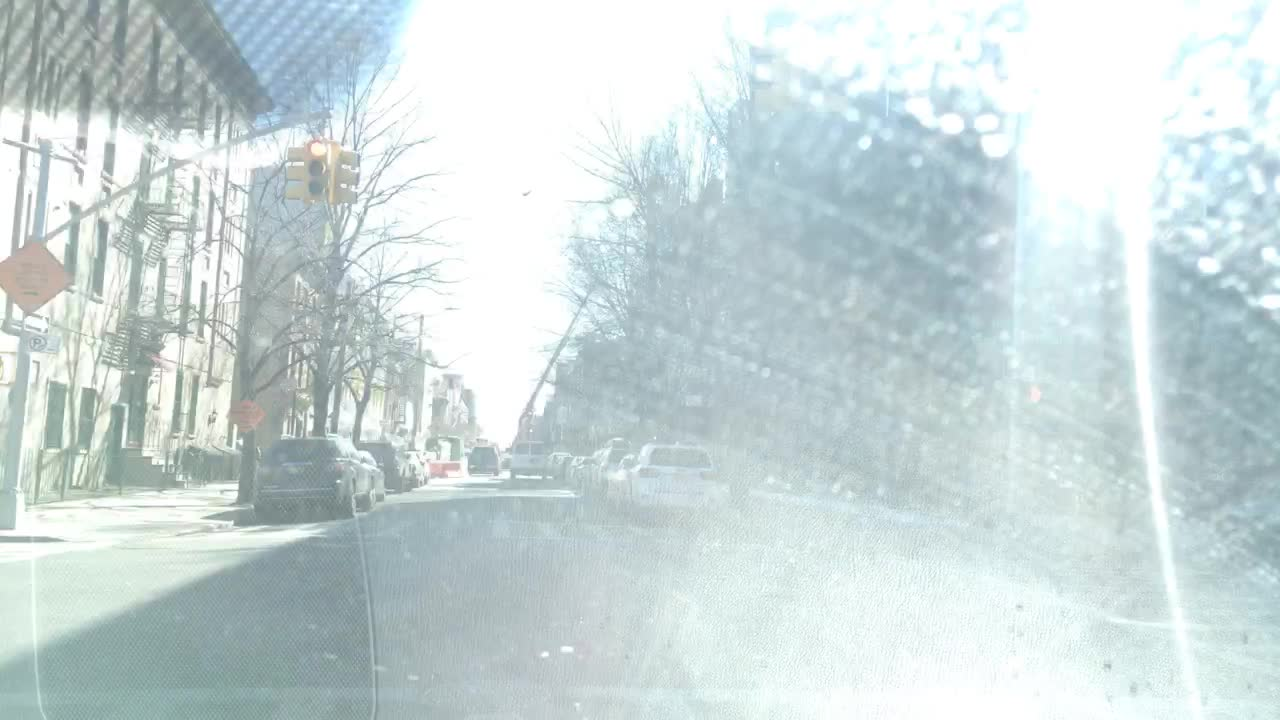car: (250, 434, 372, 522), (623, 443, 716, 520), (349, 436, 407, 492), (592, 438, 634, 509), (507, 436, 546, 478), (358, 451, 389, 500), (467, 444, 500, 477), (610, 456, 634, 499), (394, 451, 421, 489), (576, 455, 597, 491), (548, 452, 568, 486), (566, 455, 584, 487), (416, 464, 430, 483)
traffic light: (303, 135, 329, 194), (281, 143, 305, 200), (336, 143, 358, 201)
traffic sign: (0, 238, 70, 315), (222, 392, 266, 433)
